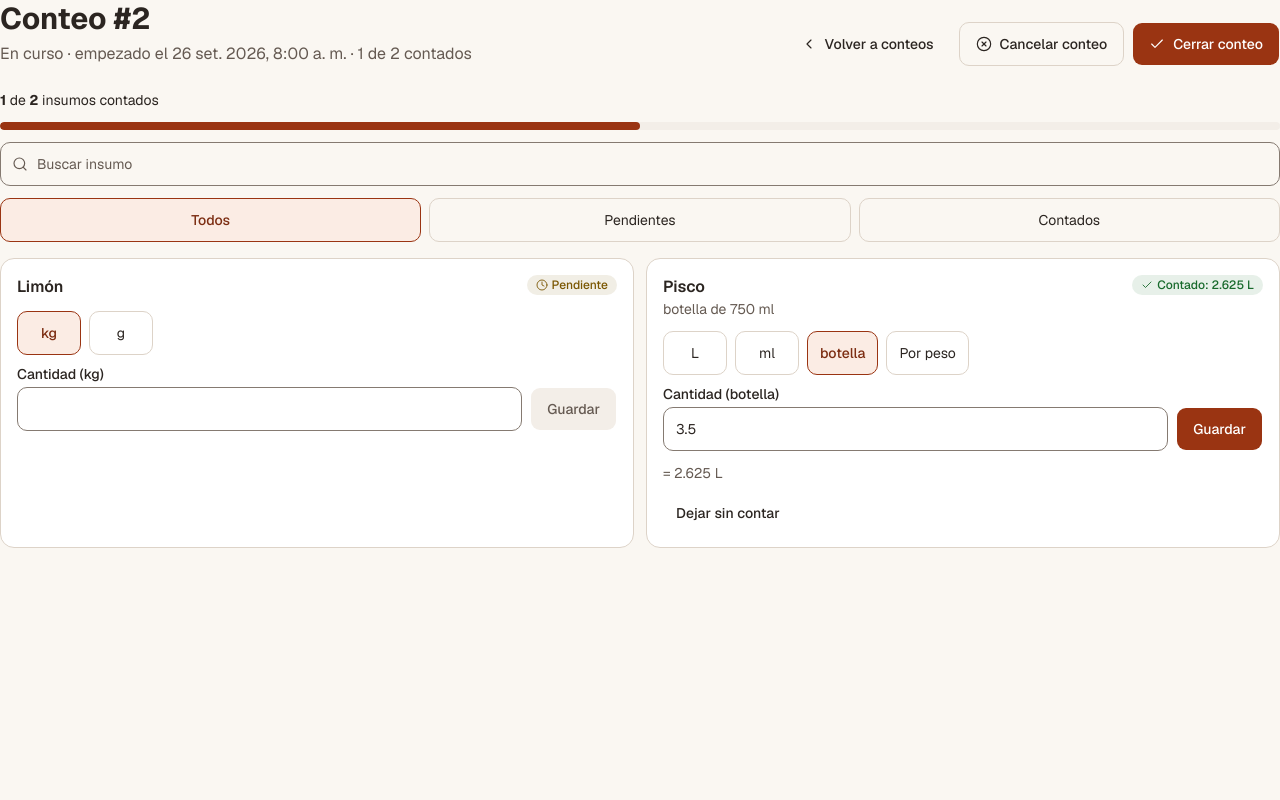
Test: contar › al cerrar avisa cuántos quedaron sin contar y pasa al reporte
Click the button "Cerrar conteo". click: x=1206, y=44
box: x1=1132 y1=22 x2=1279 y2=66
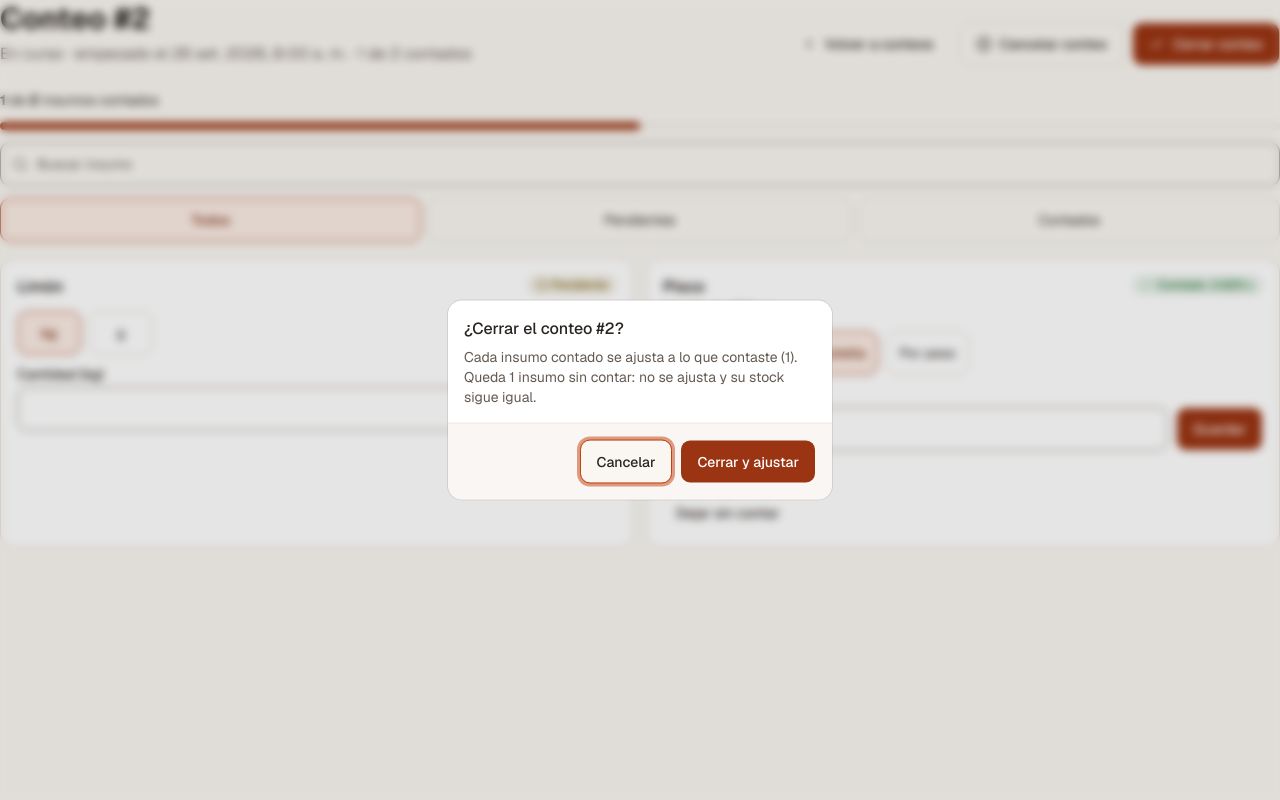
Expected: the dialog "¿Cerrar el conteo #2?" shows "Queda 1 insumo sin contar: no se ajusta y su stock sigue igual.", x1=464 y1=348 x2=797 y2=406
Click the button "Cerrar y ajustar". click: x=748, y=462
box: x1=680 y1=440 x2=816 y2=484
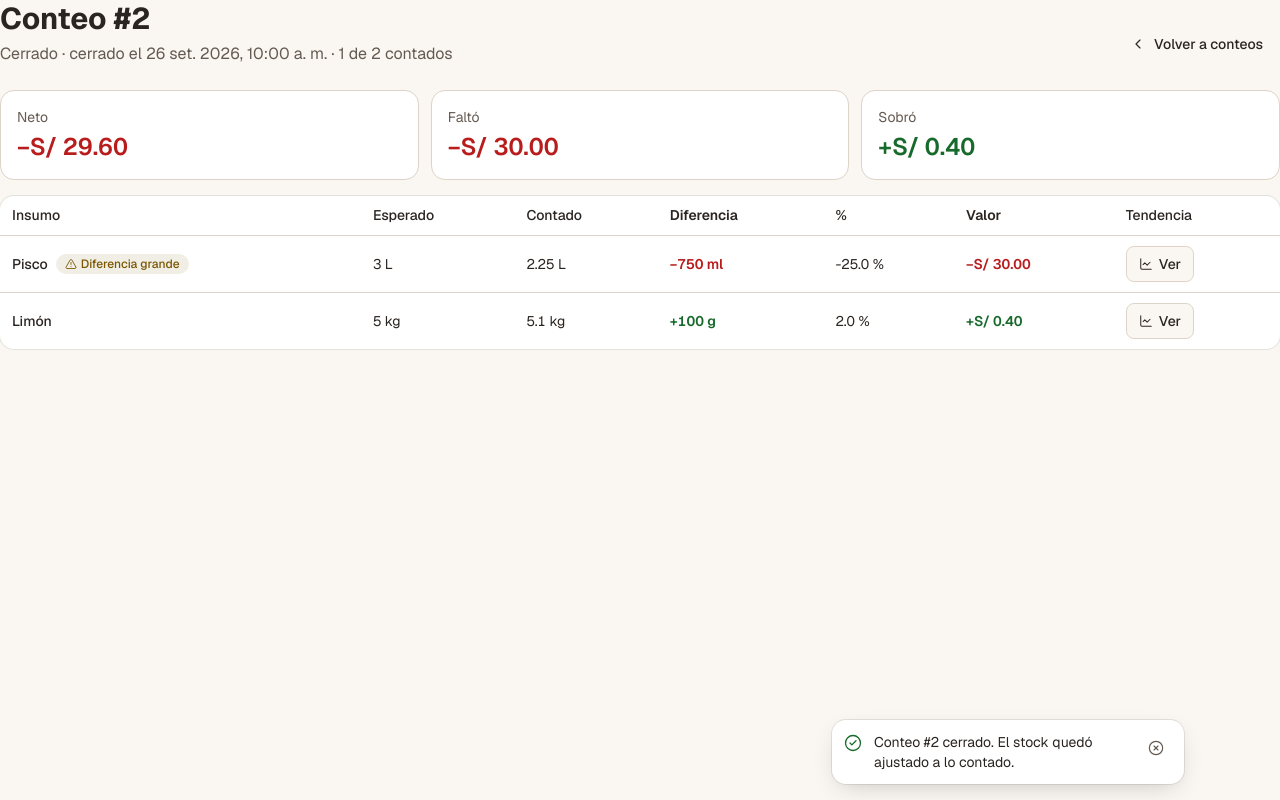
Expected: the text "Conteo #2 cerrado. El stock quedó ajustado a lo contado." is shown, x1=874 y1=732 x2=1128 y2=772
Expected: the element named "Diferencias por insumo" is shown, x1=0 y1=196 x2=1279 y2=349
